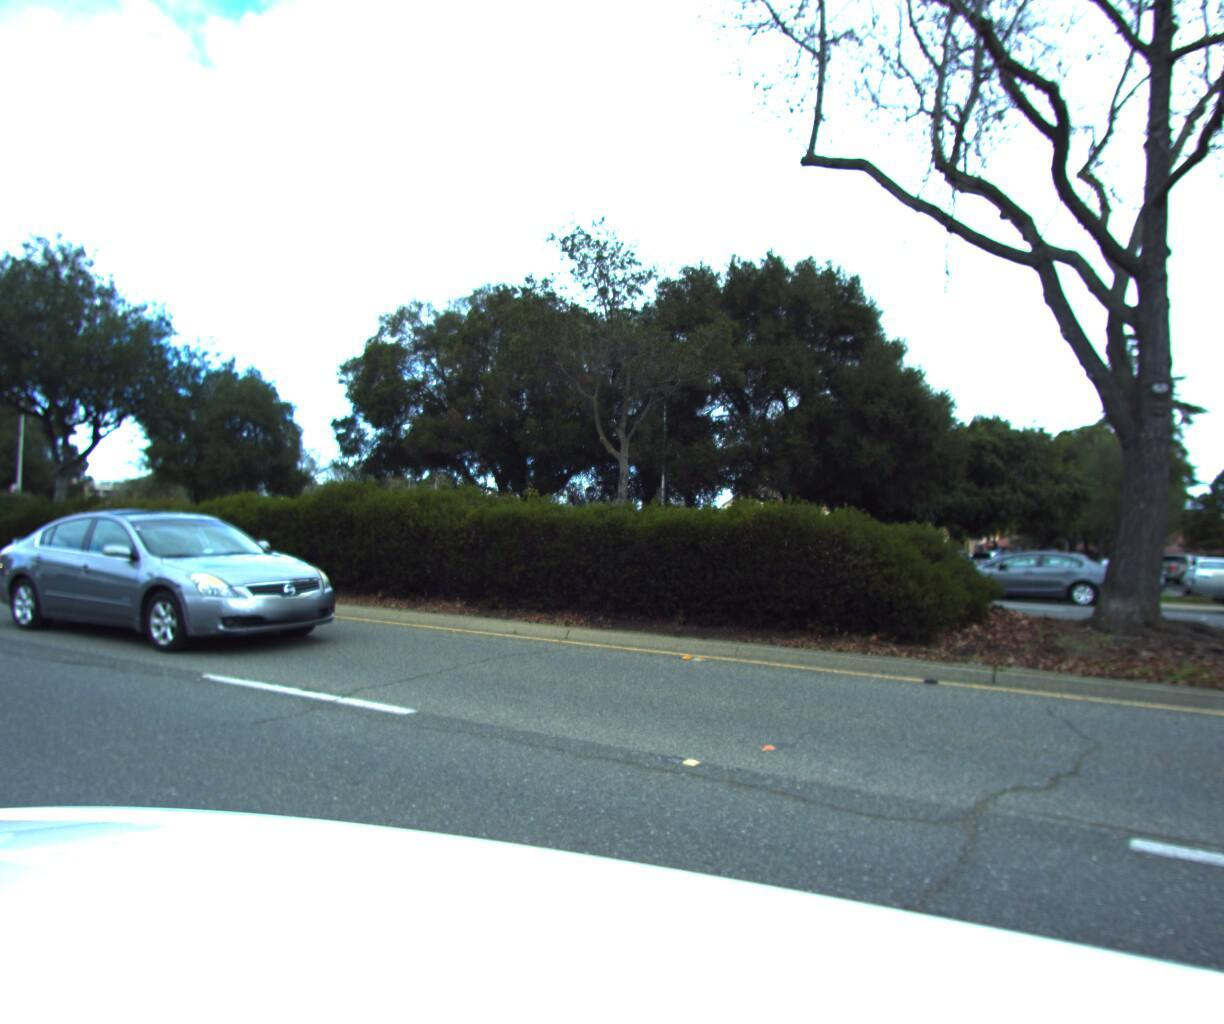car: (0, 506, 371, 666), (935, 541, 1129, 606), (1194, 538, 1224, 622)
